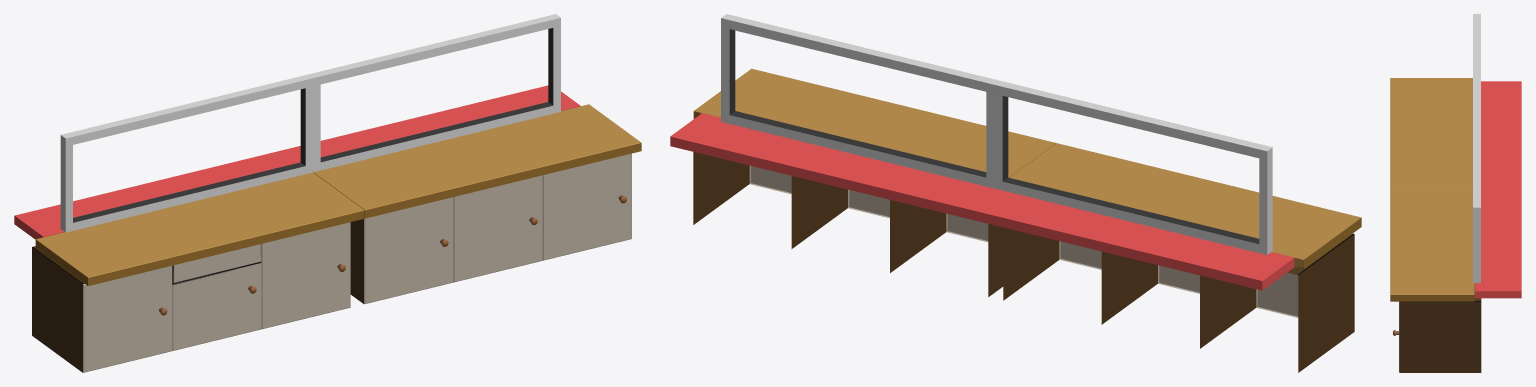
The model's file is interior1.fbx.
3 renders of one model, left to right at view 1: azimuth 30°, elevation 25°; view 2: azimuth 150°, elevation 25°; view 3: azimuth 270°, elevation 25°, orthographic. The views are drawn at different scales.
Parts seen in each view (by area): view 1: rack; view 2: rack; view 3: rack.
Boxes of the visible parts, bbox=[...] form: rack: bbox=[14, 14, 641, 372]; rack: bbox=[670, 14, 1361, 372]; rack: bbox=[1390, 14, 1521, 372].
Size of the model in its own units: 25.66 by 8.59 by 6.57.
